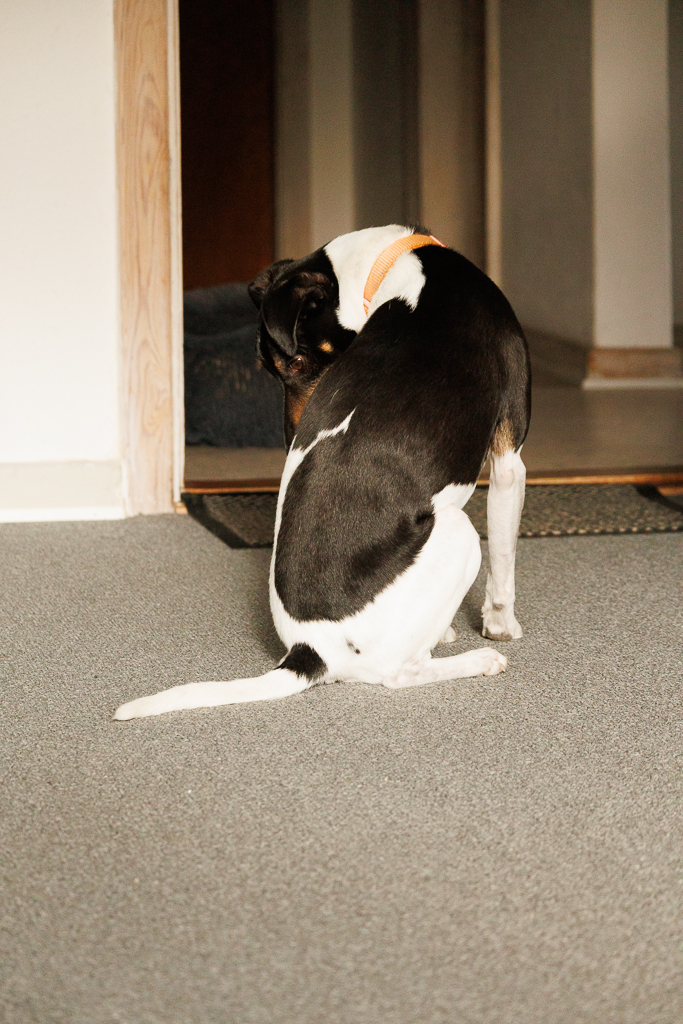Dog: (98, 214, 541, 735)
